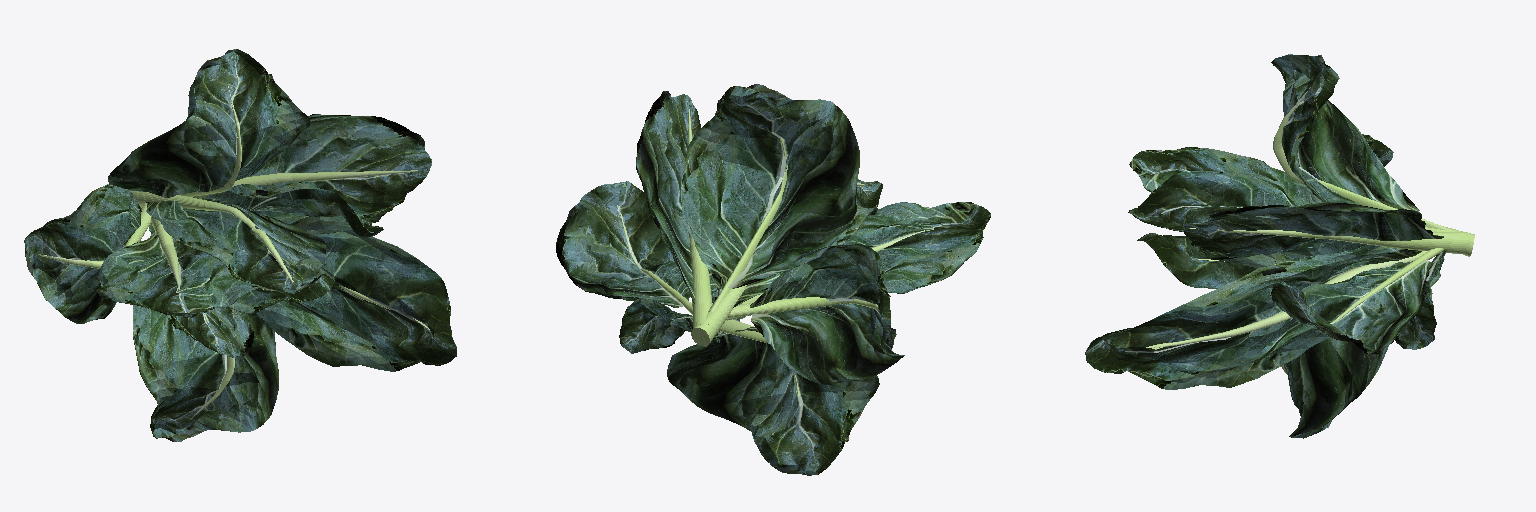
3 views of the same model, side by side, from view 1: azimuth 30°, elevation 25°; view 2: azimuth 150°, elevation 25°; view 3: azimuth 270°, elevation 25° (orthographic).
Visible parts, largest first — view 1: plant_Cylinder.041; view 2: plant_Cylinder.041; view 3: plant_Cylinder.041.
Part boxes in pixels (left/top/right/bottom): plant_Cylinder.041: left=24, top=49, right=456, bottom=441; plant_Cylinder.041: left=556, top=84, right=990, bottom=475; plant_Cylinder.041: left=1085, top=54, right=1474, bottom=438.
Bounding box in the file's own units: 0.3206 × 0.3235 × 0.3012.
Materials: 2 (2 with a texture image).